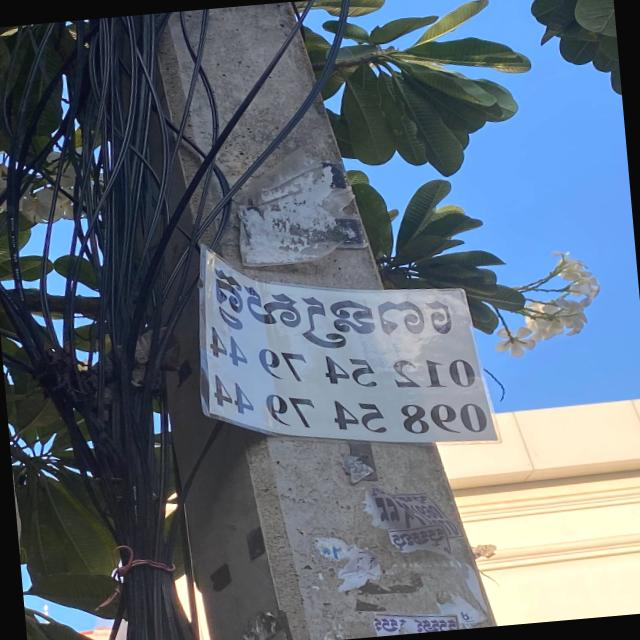263: (209, 325, 480, 391)
485: (210, 373, 491, 438)
Yolov11_80vkh: (209, 263, 462, 348), (391, 525, 447, 551)
